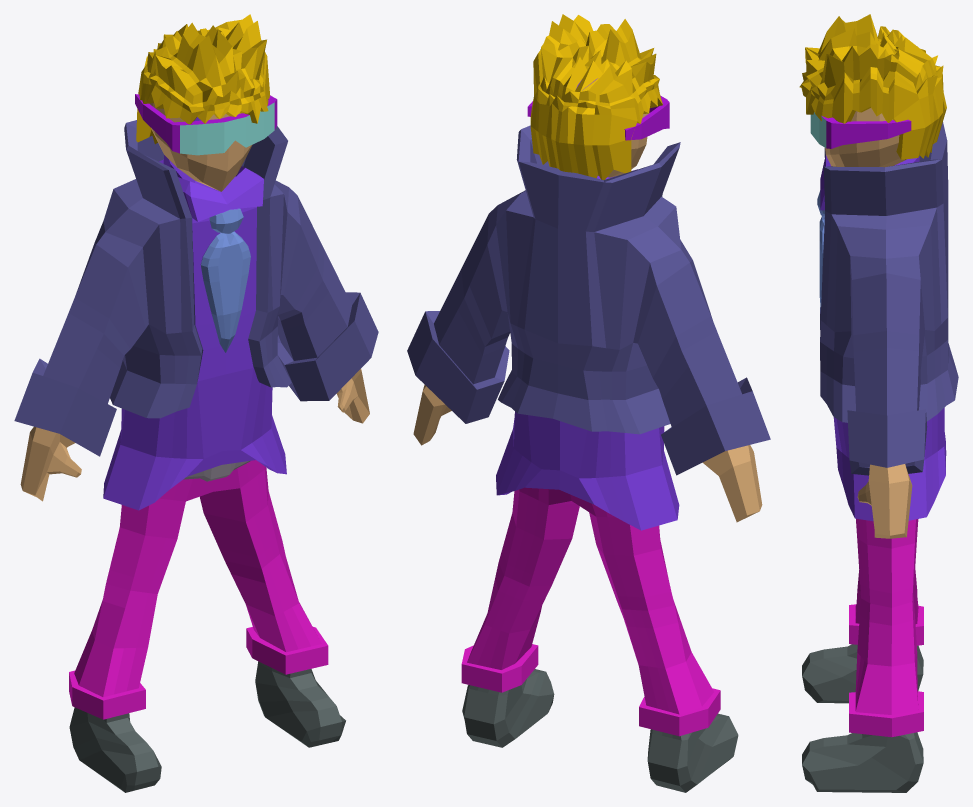
Rendered from player_colored.fbx.
3 views of the same model, side by side, from view 1: azimuth 30°, elevation 25°; view 2: azimuth 150°, elevation 25°; view 3: azimuth 270°, elevation 25° (orthographic).
Visible parts, largest first — view 1: Cube, Cube.001; view 2: Cube, Cube.001; view 3: Cube, Cube.001.
Boxes of the visible parts, <box> form: Cube: <box>14,94,378,792</box>; Cube.001: <box>136,14,270,144</box>; Cube: <box>407,78,770,792</box>; Cube.001: <box>530,14,662,179</box>; Cube: <box>802,108,958,792</box>; Cube.001: <box>799,14,946,159</box>.
Size of the model in its own units: 631 by 1207 by 242.
